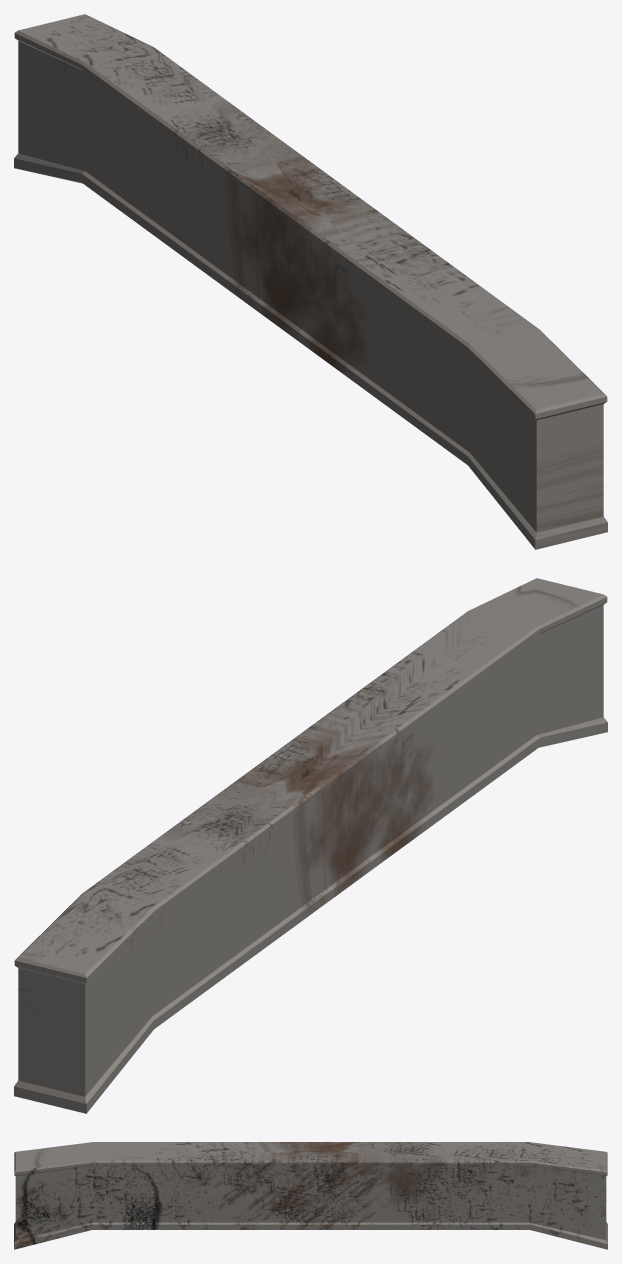
File: shield.fbx
3 renders of one model, top to bottom at view 1: azimuth 30°, elevation 25°; view 2: azimuth 150°, elevation 25°; view 3: azimuth 270°, elevation 25°, orthographic. The views are drawn at different scales.
Parts seen in each view (by area): view 1: Cube.028; view 2: Cube.028; view 3: Cube.028.
Boxes of the visible parts, left/top/right/bottom form: Cube.028: left=14, top=14, right=607, bottom=549; Cube.028: left=14, top=578, right=607, bottom=1113; Cube.028: left=14, top=1142, right=607, bottom=1249.
Size of the model in its own units: 251 by 513 by 3127.
